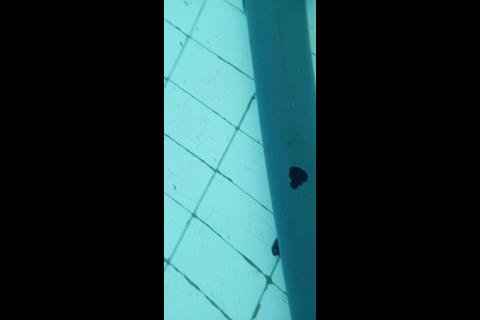kebocoran: (287, 164, 309, 190)
